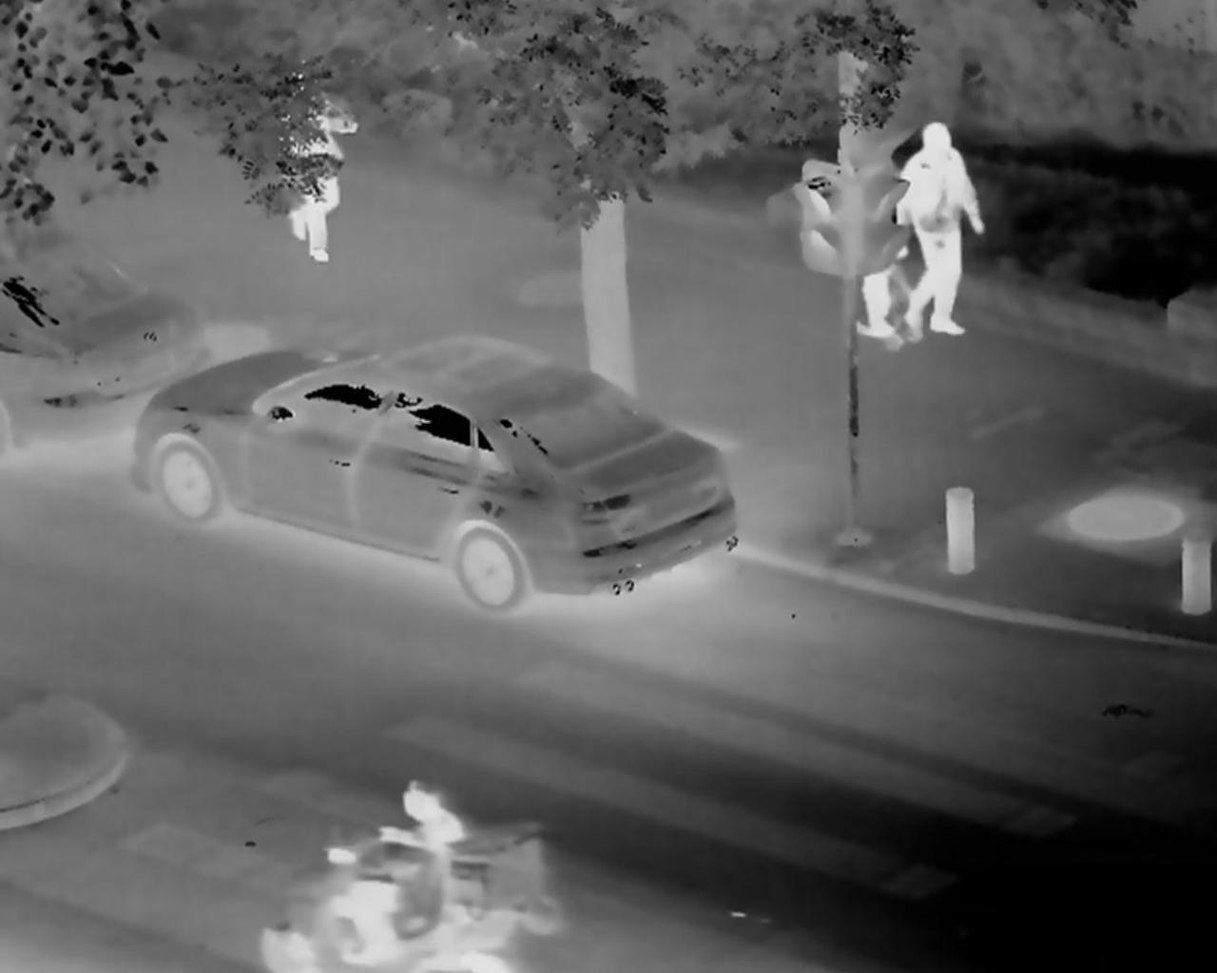person: (267, 59, 364, 276), (290, 828, 436, 972), (902, 118, 983, 344), (372, 778, 474, 930)
